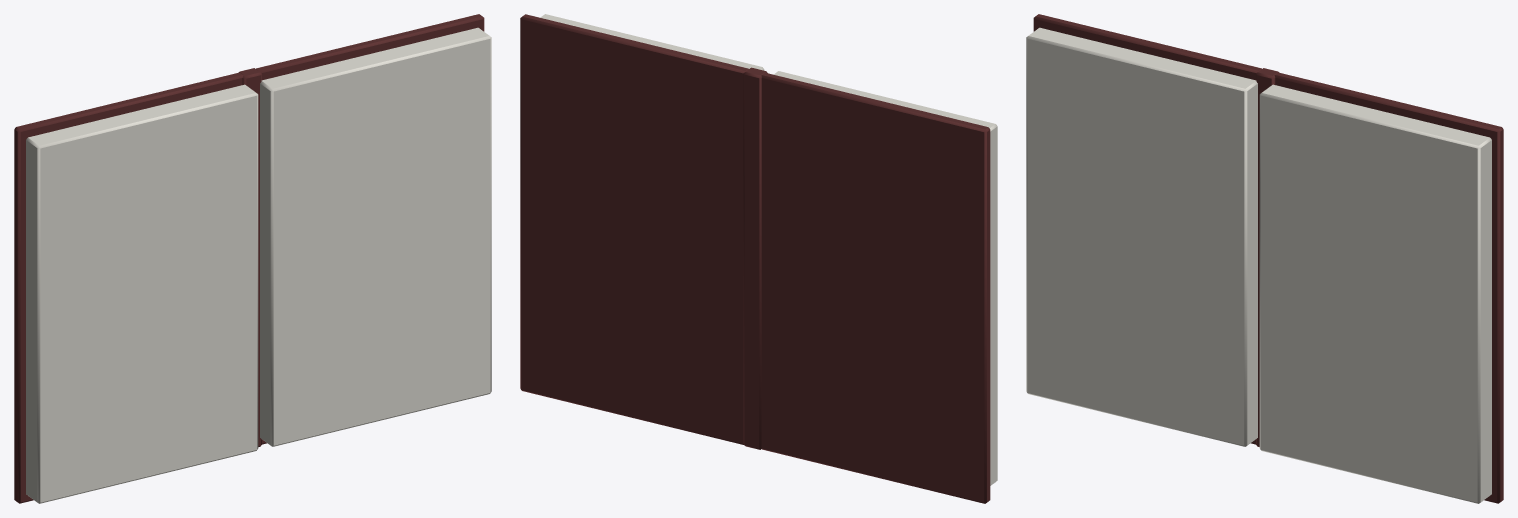
The model's file is char_hand_book.glb.
The picture shows the model from 3 angles, left to right: view 1: azimuth 30°, elevation 25°; view 2: azimuth 150°, elevation 25°; view 3: azimuth 330°, elevation 25°; orthographic projection.
Visible parts, largest first — view 1: Visual; view 2: Visual; view 3: Visual.
Part boxes in pixels (x1,y1,x2,y2): Visual: (14,14,491,503); Visual: (520,14,997,503); Visual: (1026,14,1503,503).
Size of the model in its own units: 0.3 by 0.23 by 0.022.
